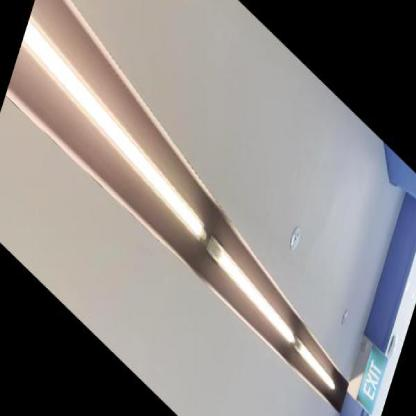light_on: (15, 7, 220, 247), (202, 233, 303, 355), (293, 327, 344, 397)
